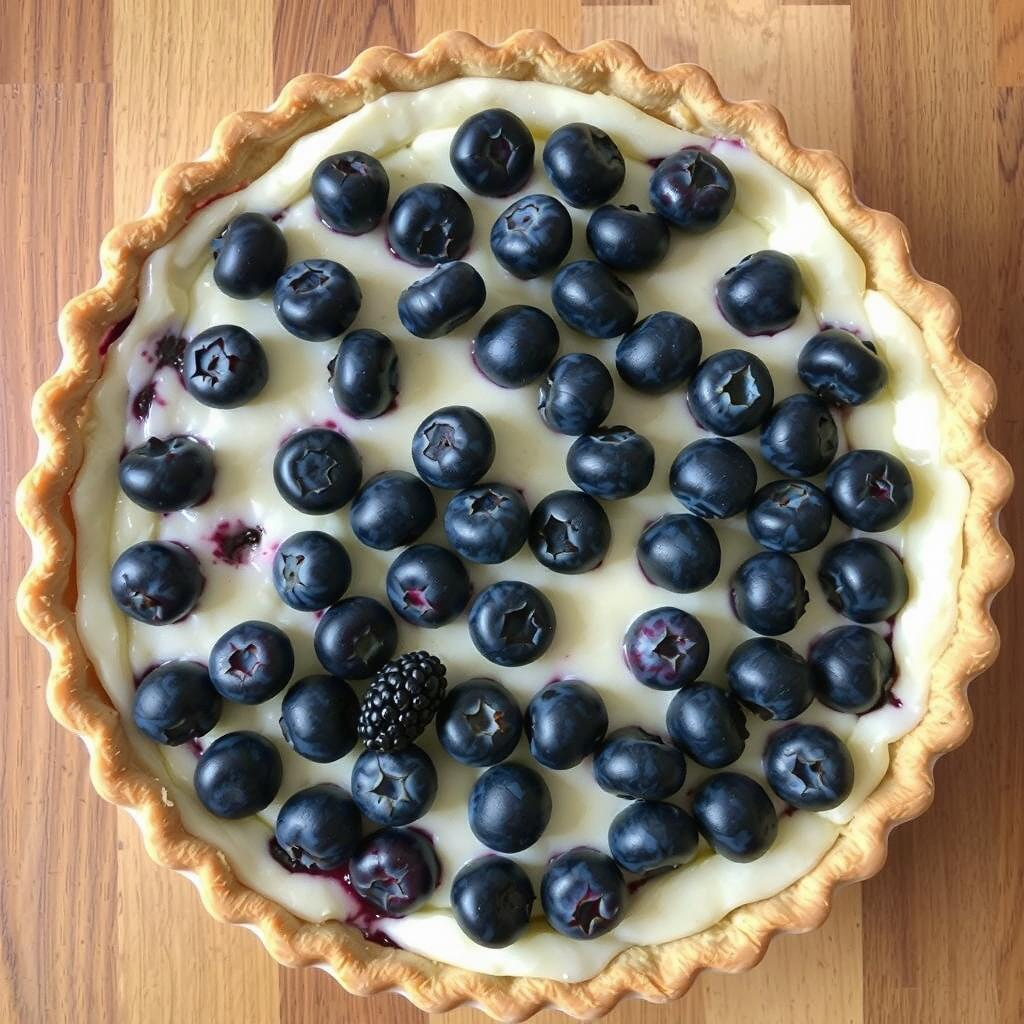pie: (10, 29, 1024, 1024)
